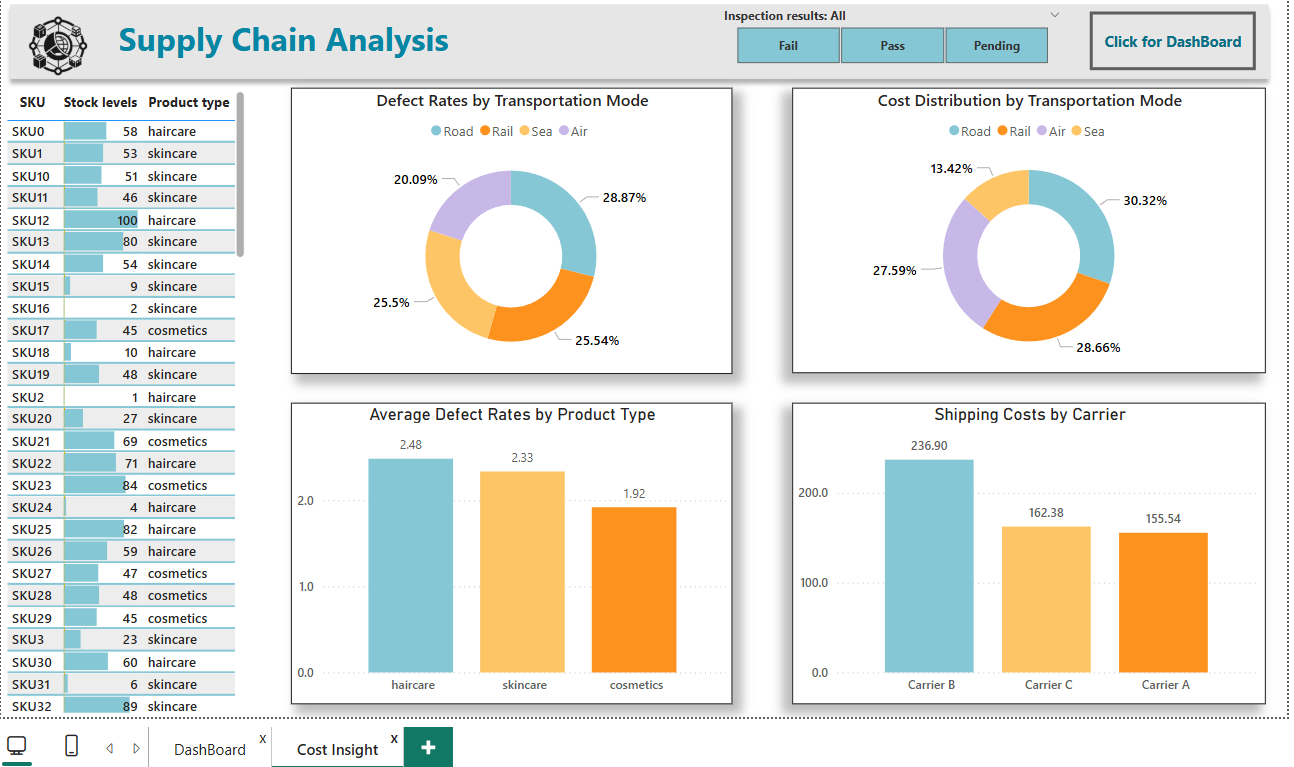

This screenshot's page, from the dashboard's own definition file:
{"tool":"powerbi","page":{"name":"Cost Insight","canvas":[1280,720],"ordinal":1},"visuals":[{"type":"shape","box":[0,1.2,1271.3,92.1],"z":0,"group":"g1"},{"type":"clusteredColumnChart","title":"Average Defect Rates by Product Type","fields":{"Y":["Avg(supply_chain_data.Defect rates)"],"Category":["supply_chain_data.Product type"]},"box":[288.6,406.8,439.1,299.8],"z":0},{"type":"clusteredColumnChart","title":"Shipping Costs by Carrier","fields":{"Category":["supply_chain_data.Shipping carriers"],"Y":["Sum(supply_chain_data.Shipping costs)"]},"box":[787.4,406.8,471.5,299.8],"z":1000},{"type":"donutChart","title":"Cost Distribution by Transportation Mode","fields":{"Y":["Sum(supply_chain_data.Costs)"],"Category":["supply_chain_data.Transportation modes"]},"box":[787.4,93.3,471.5,283.6],"z":2000},{"type":"donutChart","title":"Defect Rates by Transportation Mode","fields":{"Category":["supply_chain_data.Transportation modes"],"Y":["Avg(supply_chain_data.Defect rates)"]},"box":[288.6,93.3,439.1,284.9],"z":3000},{"type":"tableEx","fields":{"Values":["supply_chain_data.SKU","supply_chain_data.Stock levels","supply_chain_data.Product type"]},"box":[0,92.1,247.5,628.2],"z":4000},{"type":"group","id":"g1","title":"Group 1","box":[0,1.2,1271.3,92.1],"z":5000},{"type":"textbox","box":[112,17.4,352,58.5],"z":5000,"group":"g1"},{"type":"actionButton","title":"Click For Home Page","box":[1083.5,17.4,165.4,58.5],"z":6000},{"type":"slicer","fields":{"Values":["supply_chain_data.Inspection results"]},"box":[706.6,8.4,359.5,67.2],"z":8000,"group":"g1"},{"type":"image","box":[1.2,13.6,110.7,75.9],"z":9000,"group":"g1"}]}

Visuals, with their boxes on the page's 1280x720 design canvas (x1, y1, x2, y2). These are canvas units, not pixel positions in the 1294x767 screenshot, which may show the page scaled, cropped or inside an application window:
shape: [0,1,1271,93]
"Average Defect Rates by Product Type" clusteredColumnChart: [289,407,728,707]
"Shipping Costs by Carrier" clusteredColumnChart: [787,407,1259,707]
"Cost Distribution by Transportation Mode" donutChart: [787,93,1259,377]
"Defect Rates by Transportation Mode" donutChart: [289,93,728,378]
tableEx - supply_chain_data.SKU x supply_chain_data.Stock levels: [0,92,248,720]
"Group 1" group: [0,1,1271,93]
textbox: [112,17,464,76]
"Click For Home Page" actionButton: [1084,17,1249,76]
slicer - supply_chain_data.Inspection results: [707,8,1066,76]
image: [1,14,112,90]
